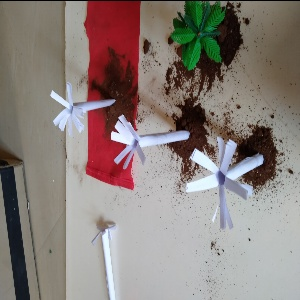plant: (165, 6, 239, 73)
weed: (178, 135, 267, 228), (110, 112, 205, 176), (86, 219, 136, 300), (47, 83, 121, 137)
